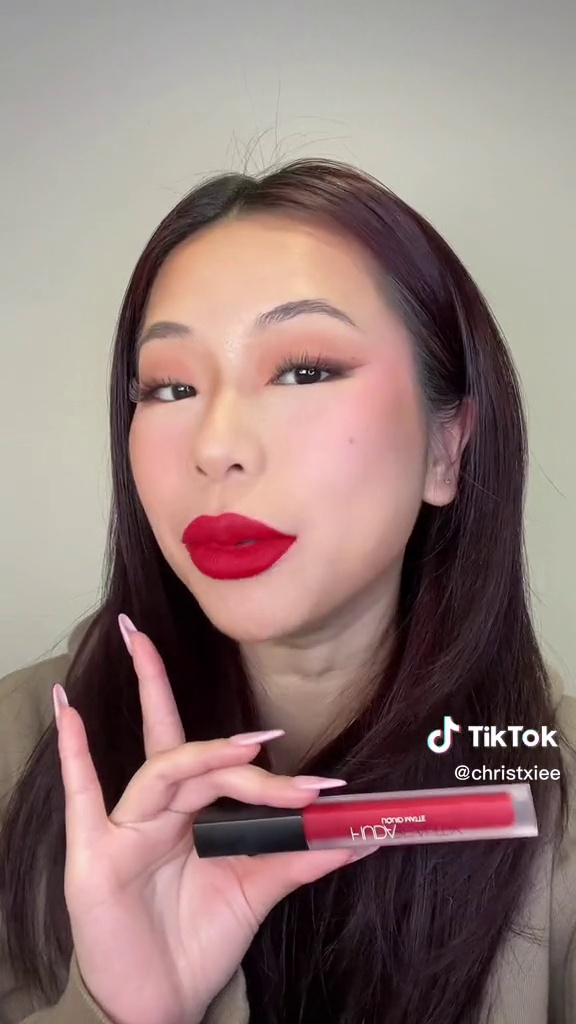train' :'yolo_data/train/images',: (182, 768, 542, 865)
